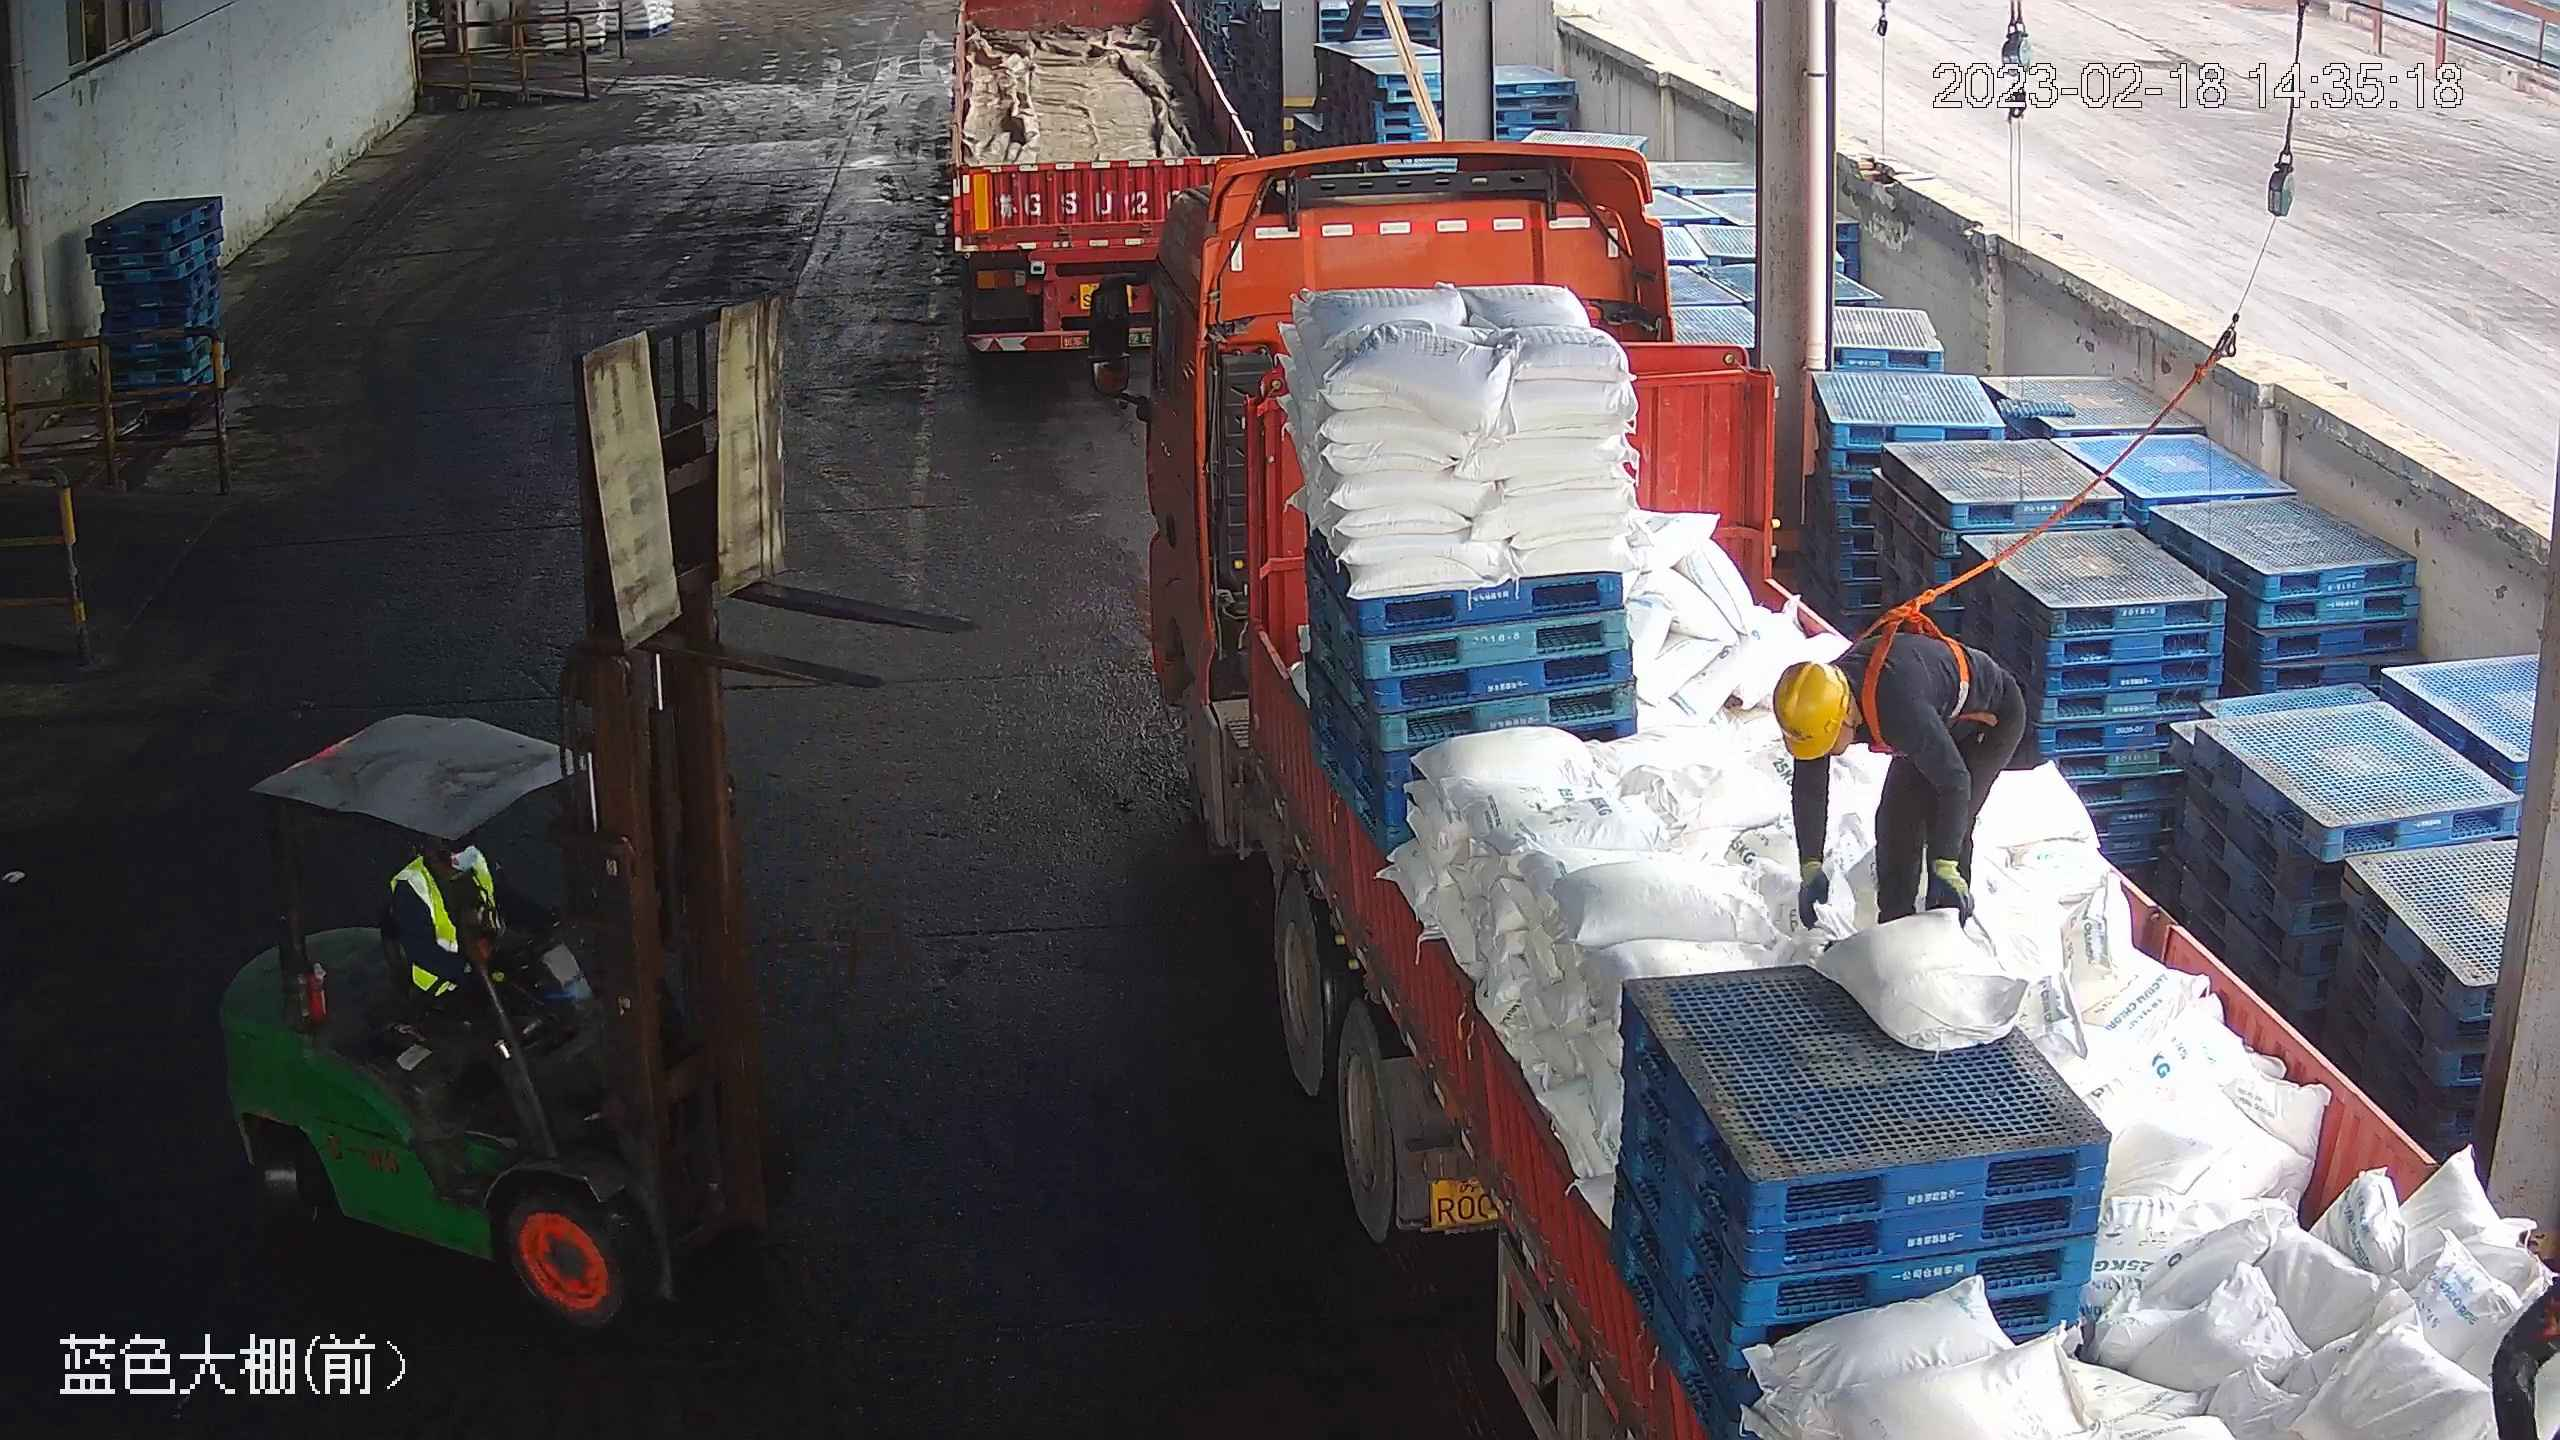belt: (1854, 591, 1982, 762)
head: (1772, 626, 1949, 781)
helmet: (1772, 661, 1849, 758)
people: (1773, 631, 2027, 938), (387, 845, 563, 1155)
truck: (1090, 132, 2560, 1440), (937, 1, 1276, 381)
